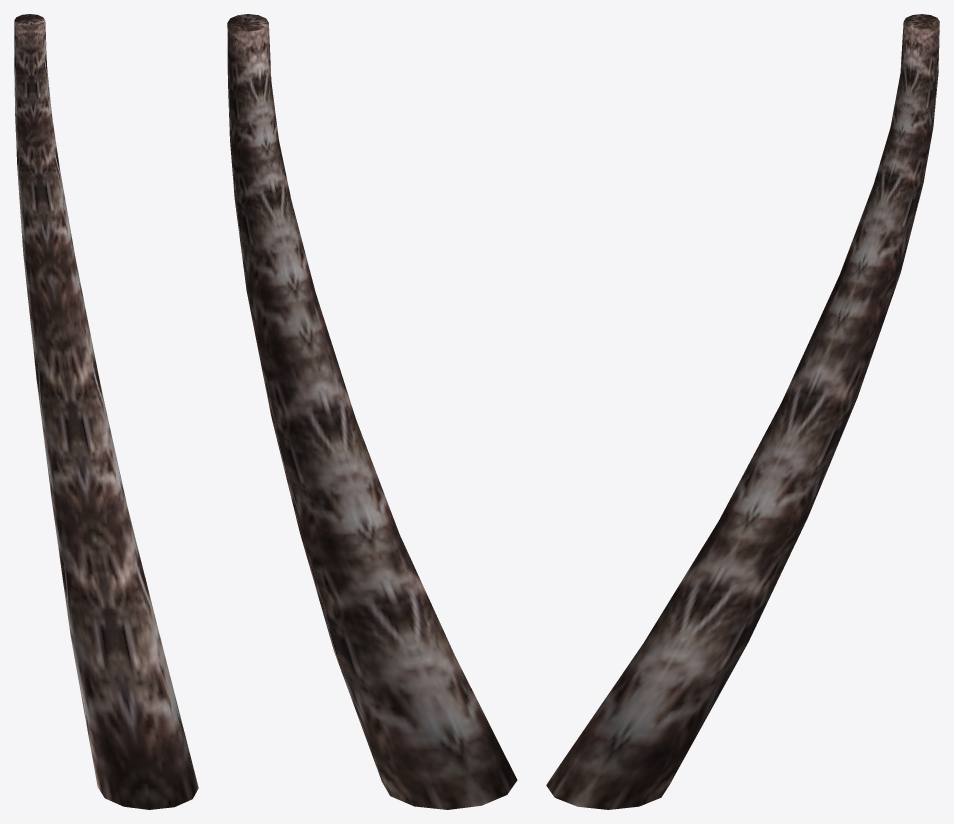
Rendered from palmtreetrunc.gltf.
The picture shows the model from 3 angles, left to right: view 1: azimuth 30°, elevation 25°; view 2: azimuth 150°, elevation 25°; view 3: azimuth 270°, elevation 25°; orthographic projection. The views are drawn at different scales.
Size of the model in its own units: 0.1188 by 0.871 by 0.402.
1 material, 1 textured.
